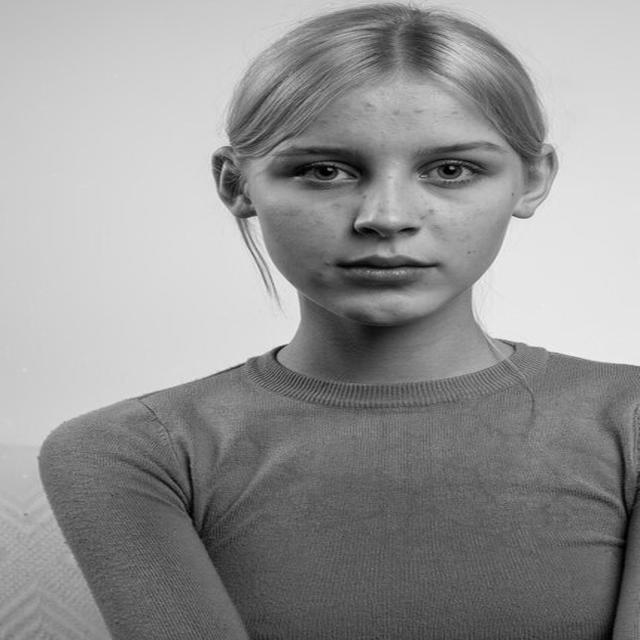Neutral: (254, 79, 522, 324)
